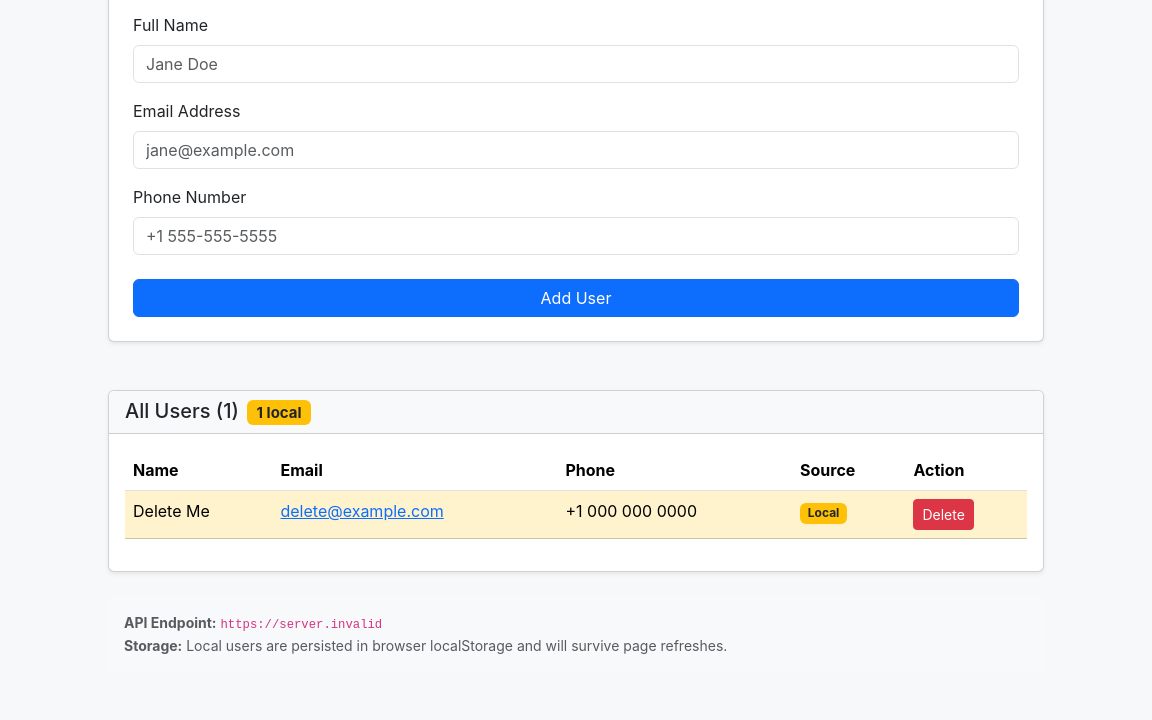
Scenario: deletes a local user and clears storage
(page scrolled)
Check: the text "Delete Me" is shown, box 125,491 -> 272,539
Click the button "Delete" at (944, 515), box 913,499 -> 974,530
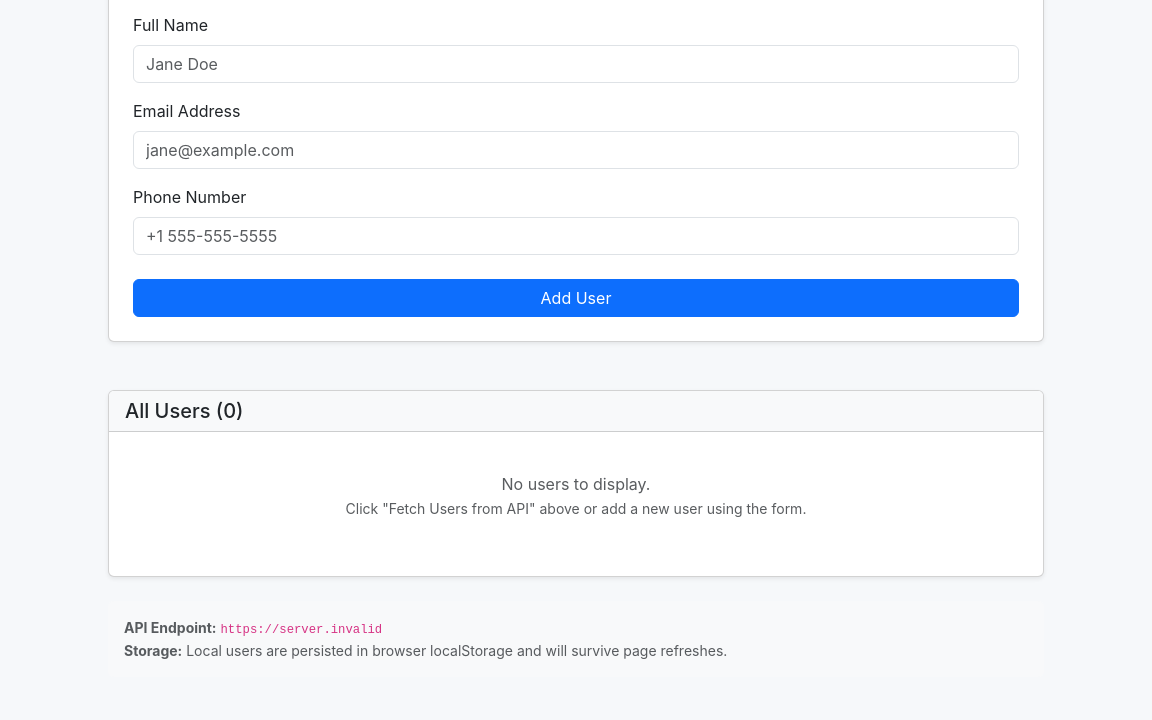
Check: the text "Delete Me" is gone
